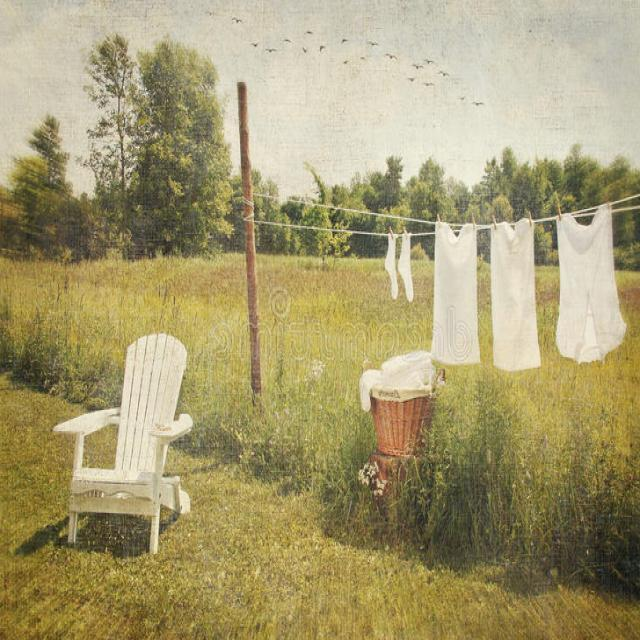clothes: (552, 198, 626, 362), (486, 216, 544, 382), (428, 210, 479, 374), (386, 222, 416, 306)
